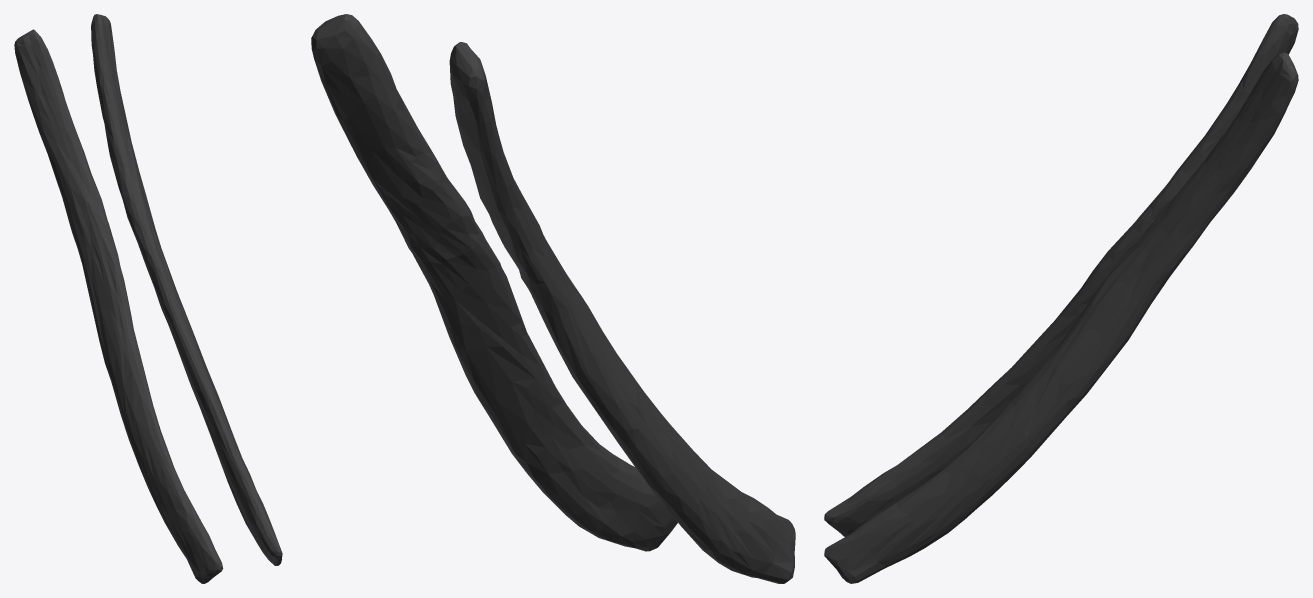
Rendered from m_sternothyroideus.glb.
3 renders of one model, left to right at view 1: azimuth 30°, elevation 25°; view 2: azimuth 150°, elevation 25°; view 3: azimuth 270°, elevation 25°, orthographic. The views are drawn at different scales.
Visible parts, largest first — view 1: m_sternothyroideus; view 2: m_sternothyroideus; view 3: m_sternothyroideus.
Part boxes in pixels (x1,y1,x2,y2): m_sternothyroideus: (14,14,282,583); m_sternothyroideus: (311,14,795,583); m_sternothyroideus: (824,14,1298,583).
Bounding box in the file's own units: 0.00133 × 0.00566 × 0.00461.
1 material, 1 textured.
